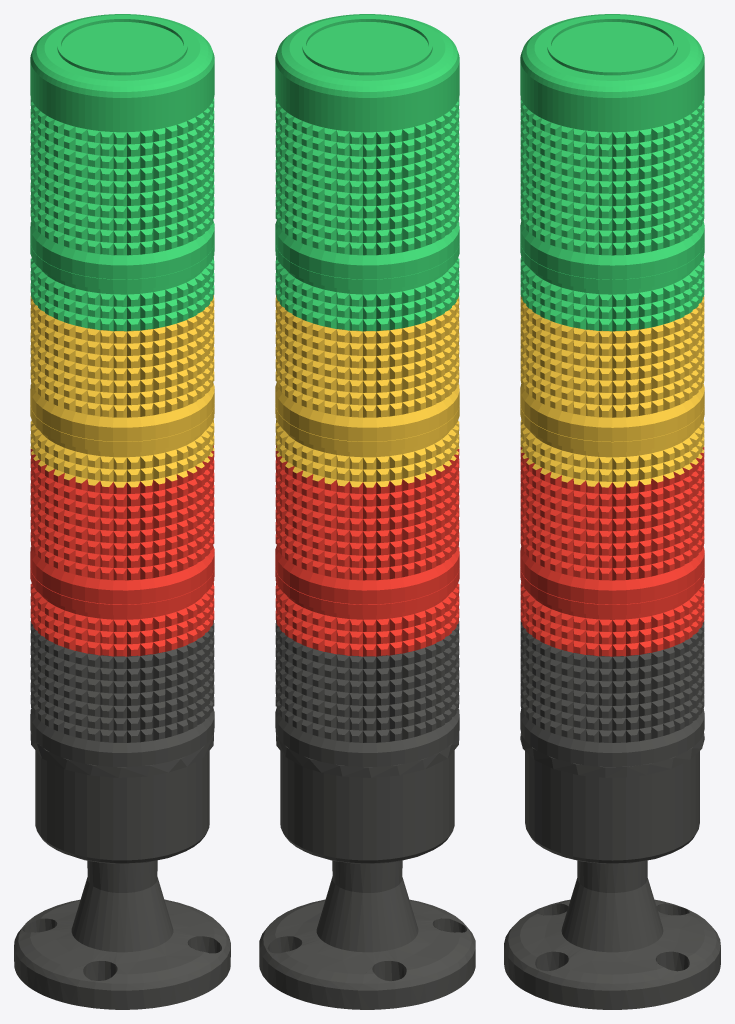
File: LightTower.dae
3 views of the same model, side by side, from view 1: azimuth 30°, elevation 25°; view 2: azimuth 150°, elevation 25°; view 3: azimuth 270°, elevation 25° (orthographic).
Visible parts, largest first — view 1: LightTower; view 2: LightTower; view 3: LightTower.
Part boxes in pixels (x1,y1,x2,y2): LightTower: (14,14,230,1009); LightTower: (259,14,475,1009); LightTower: (504,14,720,1009).
Bounding box in the file's own units: 0.1226 × 0.1226 × 0.573.
